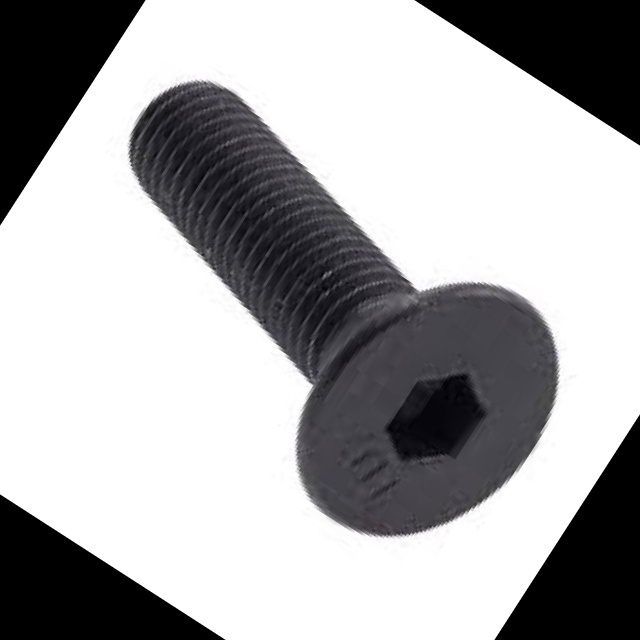torx: (258, 225, 603, 591)
